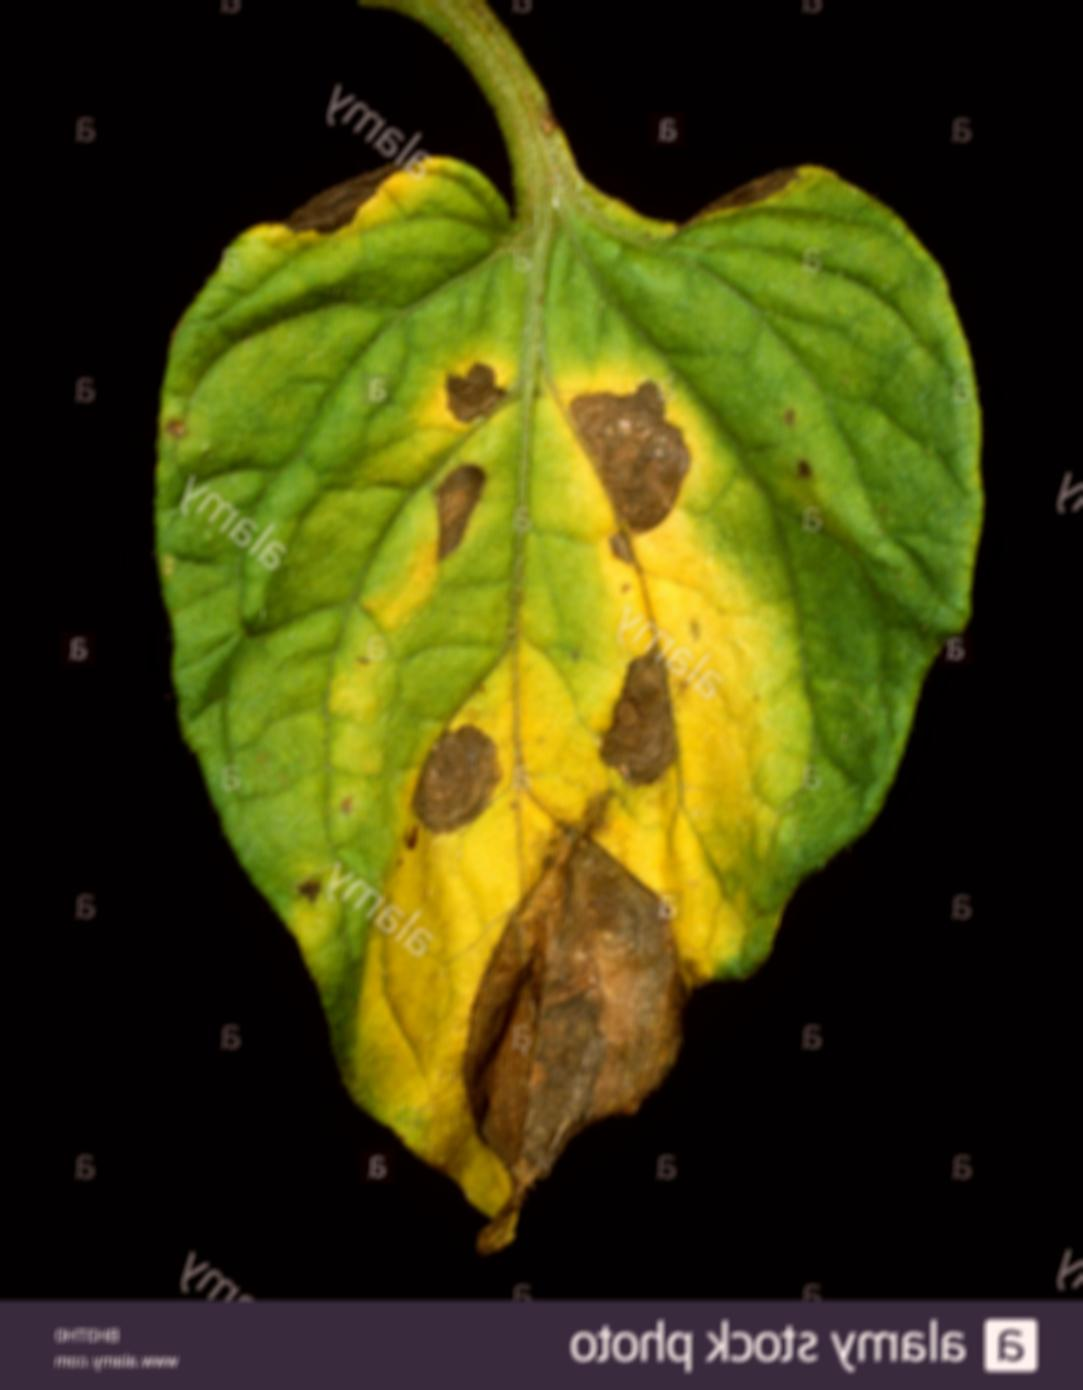Tomato Early blight leaf: (180, 33, 980, 1259)
